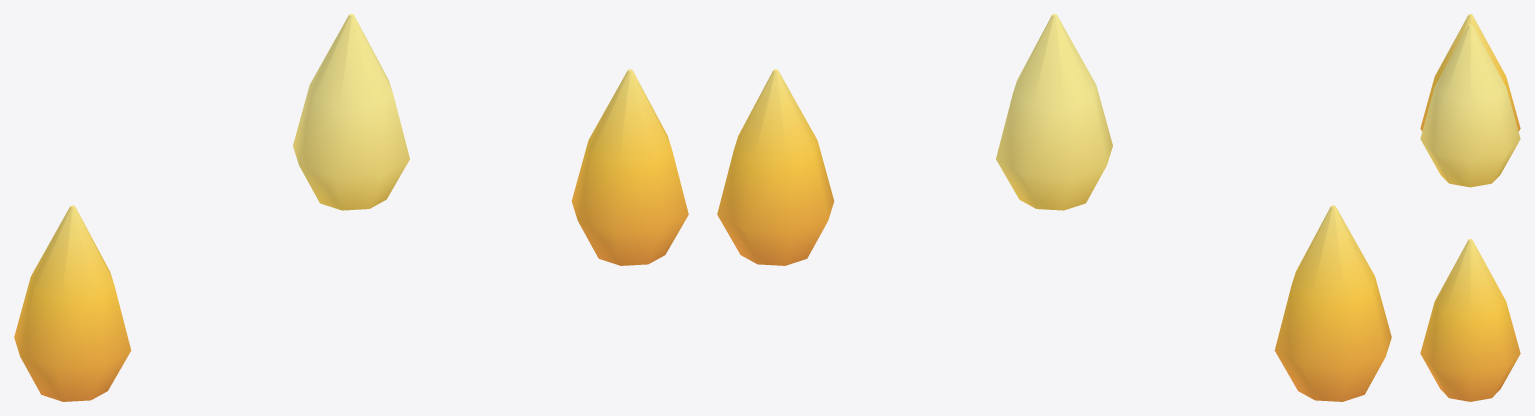
The model's file is candelabra_flames.glb.
3 renders of one model, left to right at view 1: azimuth 30°, elevation 25°; view 2: azimuth 150°, elevation 25°; view 3: azimuth 270°, elevation 25°, orthographic. The views are drawn at different scales.
Visible parts, largest first — view 1: candelabra_flames; view 2: candelabra_flames; view 3: candelabra_flames.
Boxes of the visible parts, box(x1,y1,x2,y2) form: candelabra_flames: box(14, 14, 688, 401); candelabra_flames: box(717, 14, 1391, 401); candelabra_flames: box(1420, 14, 1520, 401).
Bounding box in the file's own units: 1.24 × 0.542 × 0.196.
Materials: 1 (1 with a texture image).
